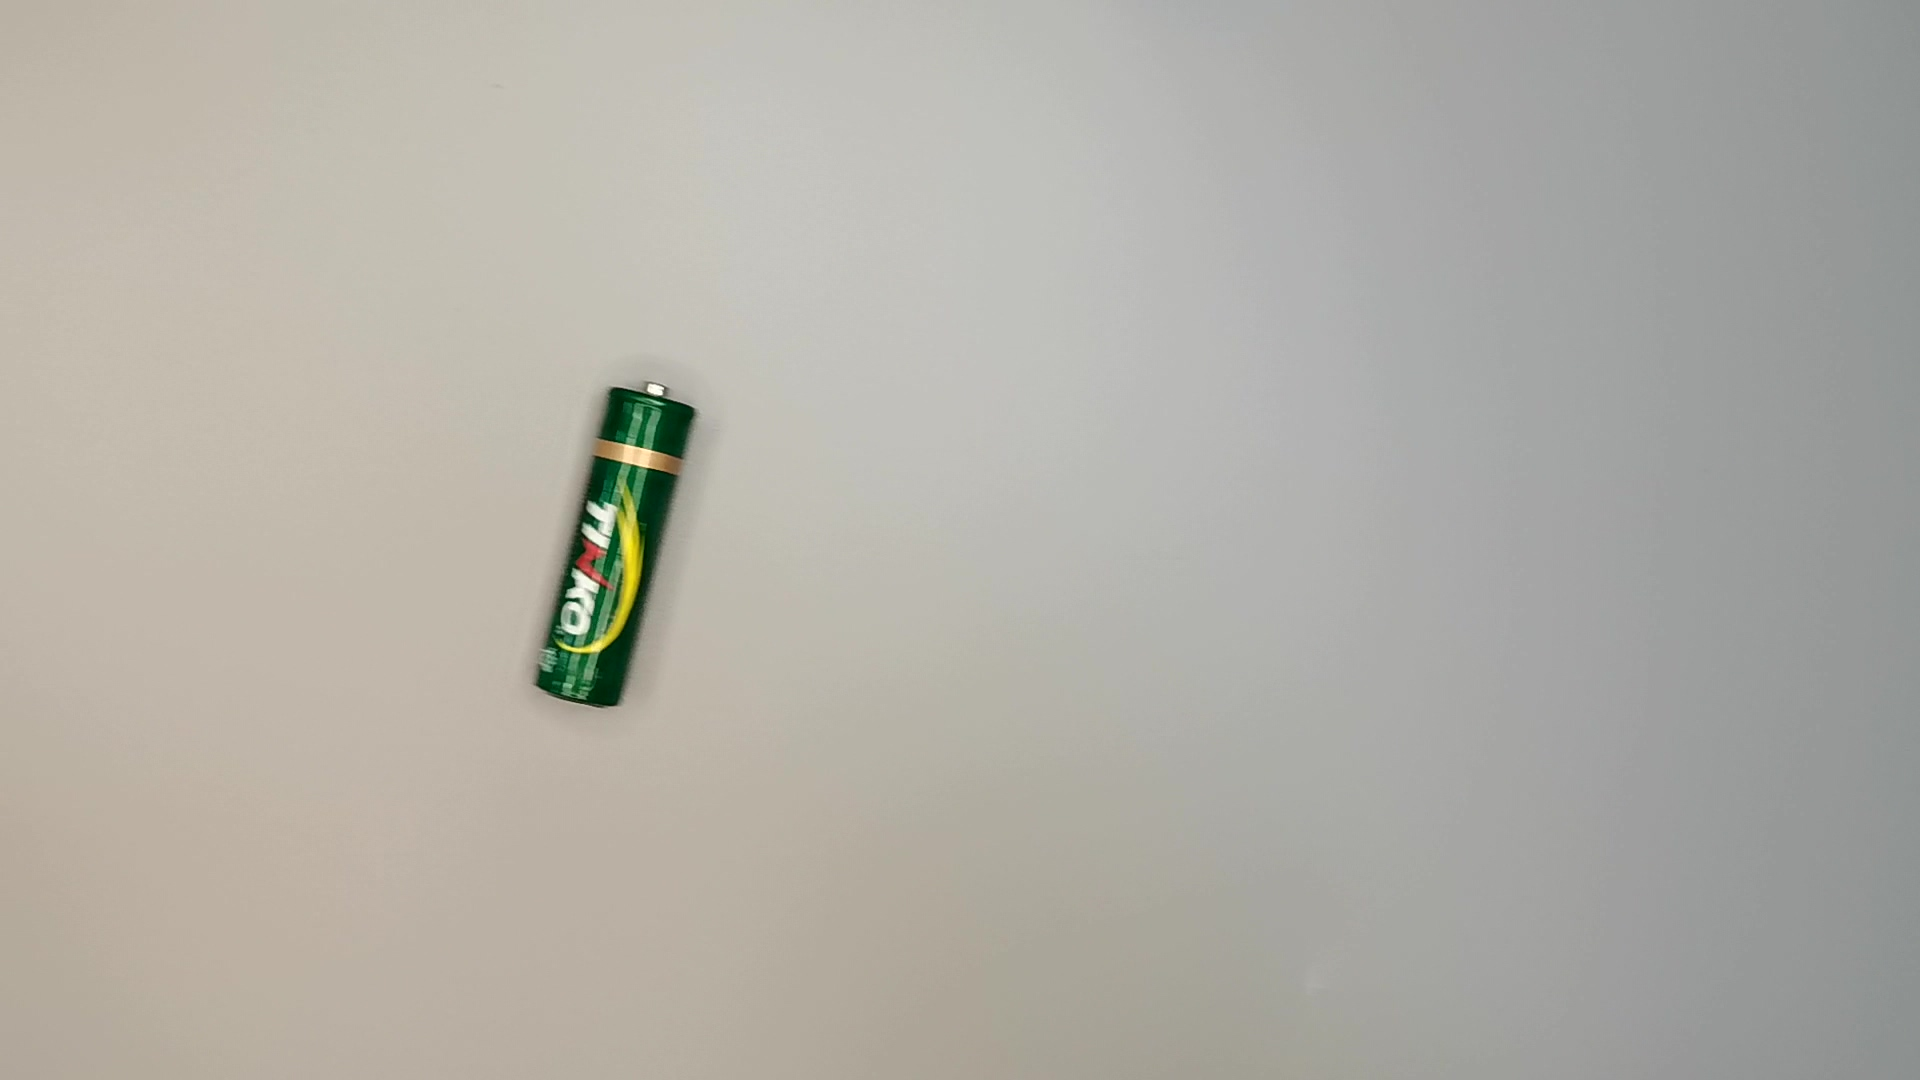battery: (530, 376, 709, 715)
